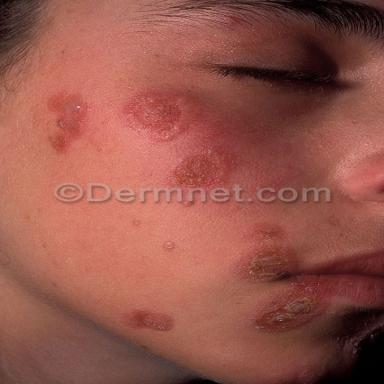Impetigo: (252, 278, 329, 331), (122, 91, 200, 141), (235, 223, 297, 282), (48, 93, 87, 152), (172, 150, 232, 187), (132, 311, 174, 331)
